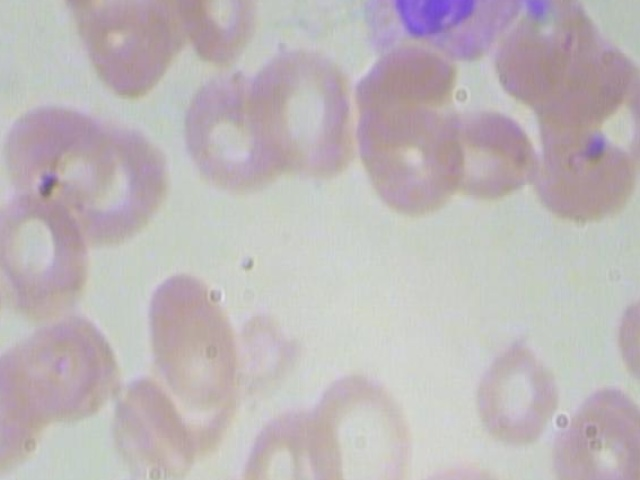Platelets: (569, 0, 618, 1)
RBC: (237, 42, 361, 180), (173, 67, 295, 197), (146, 266, 243, 406), (304, 363, 417, 480), (422, 96, 539, 204), (523, 123, 640, 231), (0, 187, 94, 317), (462, 333, 567, 446), (241, 400, 317, 480), (168, 0, 259, 63), (606, 278, 640, 389)
WBC: (348, 0, 584, 64)
